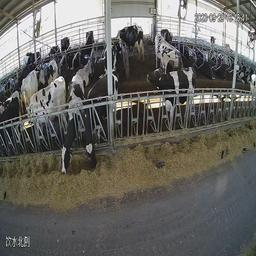cow: (83, 65, 119, 173), (24, 70, 66, 152), (56, 76, 86, 176), (174, 61, 201, 132), (0, 93, 20, 158), (154, 34, 178, 81), (120, 29, 146, 63), (20, 67, 41, 109), (100, 40, 118, 75), (195, 50, 214, 82), (77, 56, 95, 87), (116, 23, 138, 46), (46, 55, 61, 86), (230, 60, 246, 86), (212, 57, 228, 81), (81, 30, 98, 52), (158, 26, 176, 45), (64, 52, 82, 71), (59, 35, 74, 56), (1, 74, 15, 94), (49, 43, 59, 59)
